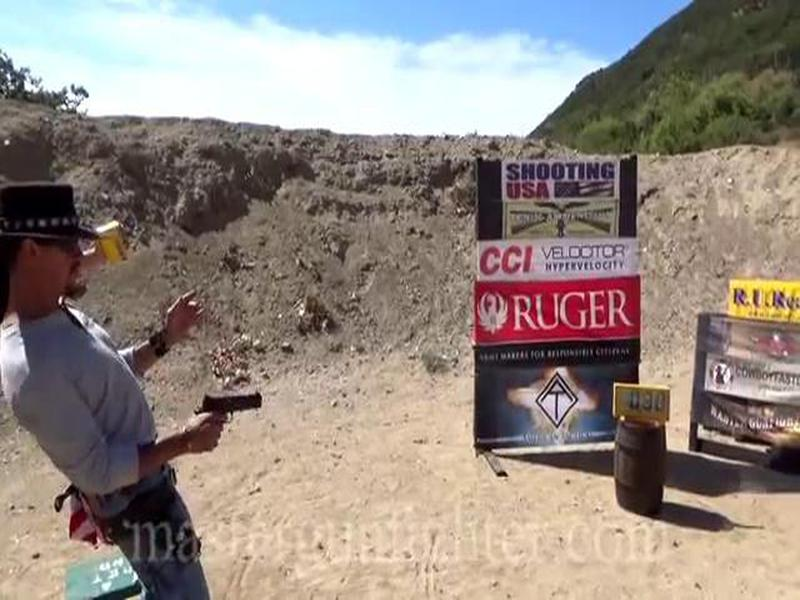Pistola: (191, 385, 269, 450)
